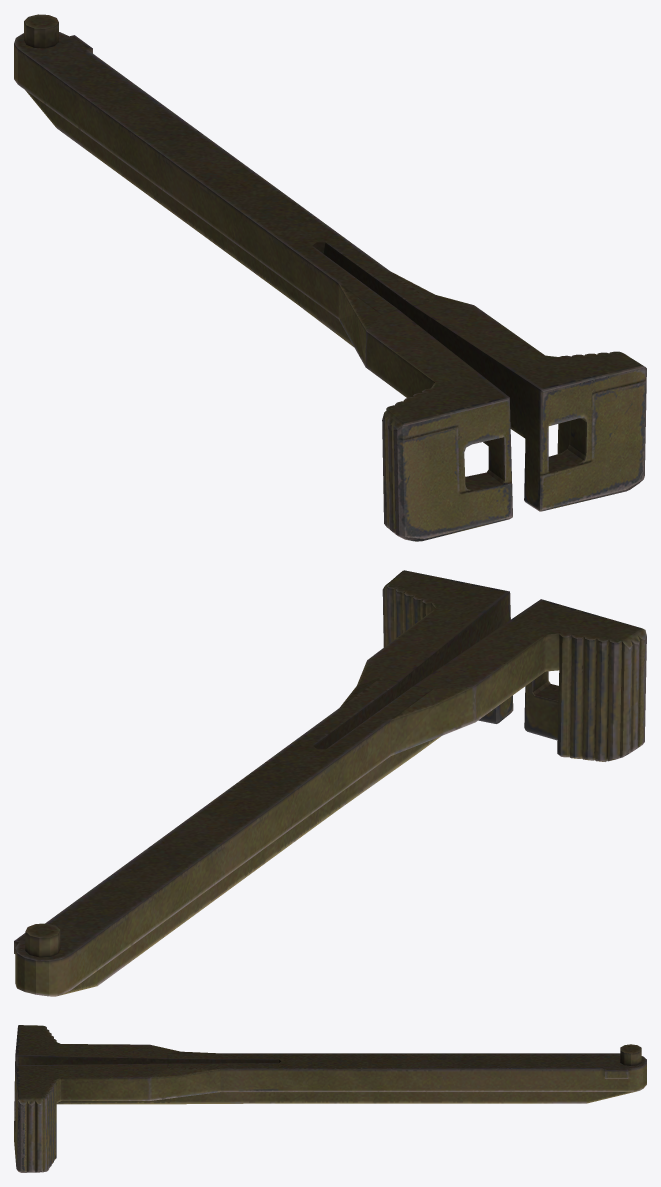
The picture shows the model from 3 angles, top to bottom: view 1: azimuth 30°, elevation 25°; view 2: azimuth 150°, elevation 25°; view 3: azimuth 270°, elevation 25°; orthographic projection. The views are drawn at different scales.
Parts seen in each view (by area): view 1: TW_5bd70322209c4d00d7167b8f_PZ_Import; view 2: TW_5bd70322209c4d00d7167b8f_PZ_Import; view 3: TW_5bd70322209c4d00d7167b8f_PZ_Import.
Boxes of the visible parts, x1,y1,x2,y2 form: TW_5bd70322209c4d00d7167b8f_PZ_Import: [14, 14, 646, 541]; TW_5bd70322209c4d00d7167b8f_PZ_Import: [14, 570, 646, 996]; TW_5bd70322209c4d00d7167b8f_PZ_Import: [14, 1025, 646, 1172].
Size of the model in its own units: 0.0217 by 0.0745 by 0.0118.
1 material, 1 textured.
